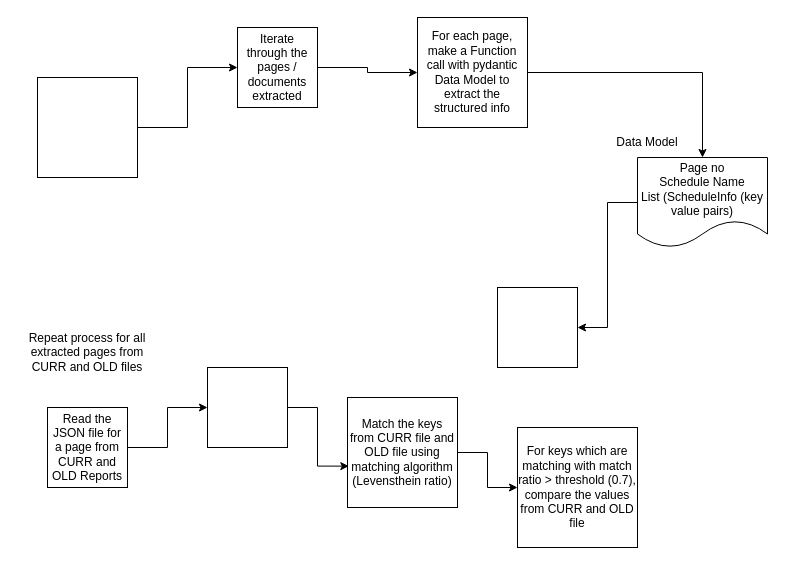
This 785x565 diagram has some shape labels left out. The centre of each missing label's shape, as x and y in pixels:
"Iterate through the keys" belongs at (247,407).
"Load the PDF using langchain document loader (PyPDFLoader)" belongs at (87,127).
"Write as JSON file for each page" belongs at (537,327).
